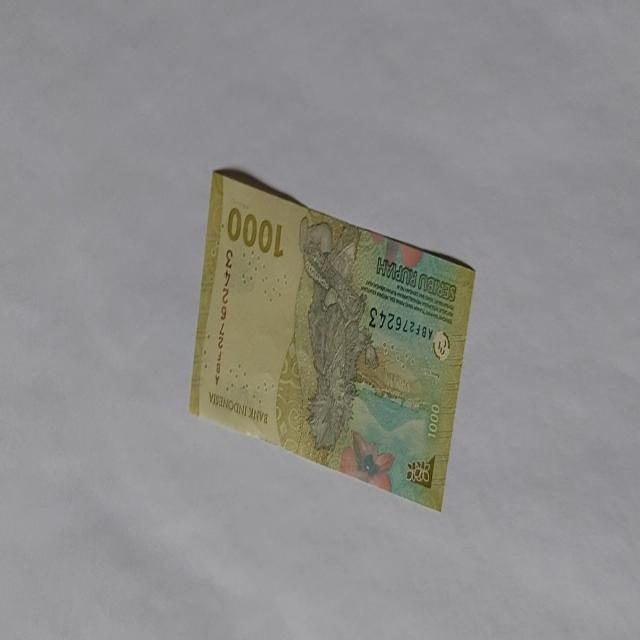seribu rupiah kertas: (188, 167, 476, 513)
